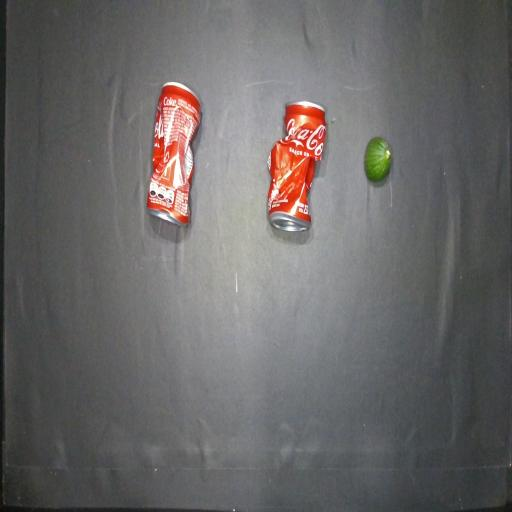higo: (364, 137, 392, 182)
lata_defectuoso: (267, 101, 326, 232), (147, 82, 201, 225)
